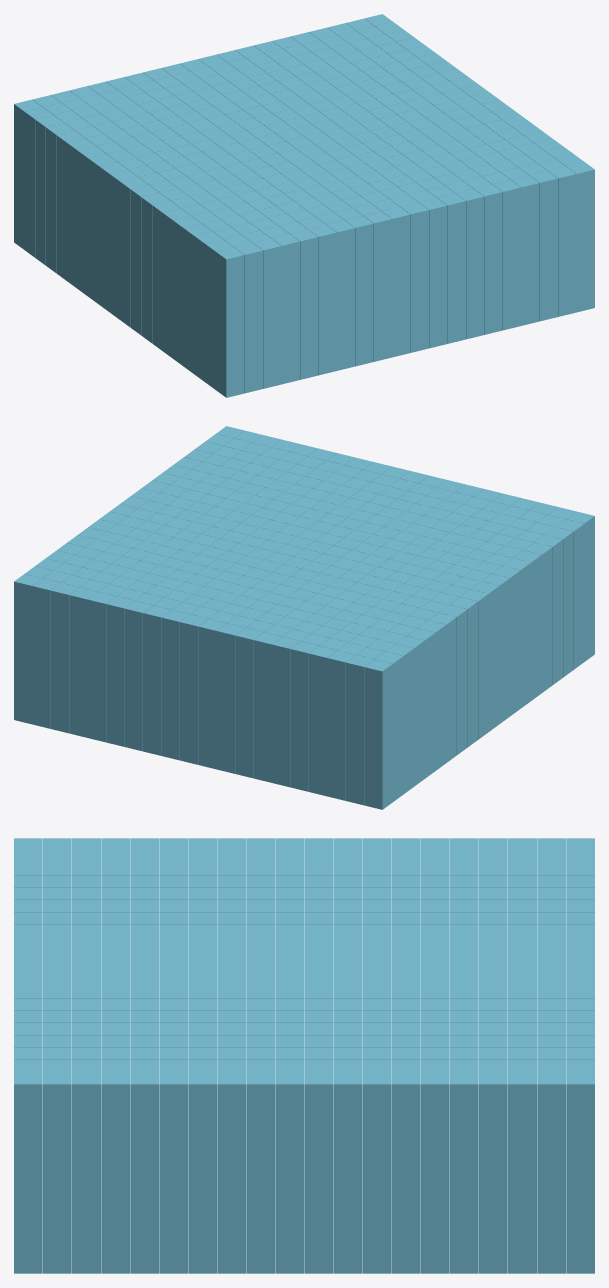
The model's file is BiggerWaterNew.fbx.
The picture shows the model from 3 angles, top to bottom: view 1: azimuth 30°, elevation 25°; view 2: azimuth 150°, elevation 25°; view 3: azimuth 270°, elevation 25°; orthographic projection. The views are drawn at different scales.
Visible parts, largest first — view 1: polySurface93, polySurface253, polySurface393, polySurface453, polySurface193, polySurface173, polySurface133, polySurface413, polySurface373, polySurface333, polySurface273, polySurface233 (+27 smaller); view 2: polySurface112, polySurface272, polySurface412, polySurface472, polySurface212, polySurface192, polySurface152, polySurface432, polySurface392, polySurface352, polySurface292, polySurface252 (+27 smaller); view 3: polySurface484, polySurface483, polySurface482, polySurface481, polySurface480, polySurface479, polySurface492, polySurface491, polySurface490, polySurface489, polySurface488, polySurface487 (+8 smaller).
Boxes of the visible parts, left/top/right/bottom form: polySurface93: left=216, top=247, right=244, bottom=397; polySurface253: left=363, top=211, right=392, bottom=361; polySurface393: left=493, top=180, right=521, bottom=330; polySurface453: left=548, top=166, right=576, bottom=316; polySurface193: left=308, top=225, right=336, bottom=375; polySurface173: left=290, top=229, right=318, bottom=379; polySurface133: left=253, top=238, right=281, bottom=388; polySurface413: left=511, top=175, right=539, bottom=325; polySurface373: left=474, top=184, right=502, bottom=334; polySurface333: left=437, top=193, right=465, bottom=343; polySurface273: left=382, top=207, right=410, bottom=357; polySurface233: left=345, top=216, right=373, bottom=366; polySurface112: left=364, top=659, right=392, bottom=809; polySurface272: left=216, top=623, right=245, bottom=773; polySurface412: left=87, top=592, right=115, bottom=742; polySurface472: left=32, top=578, right=60, bottom=728; polySurface212: left=272, top=637, right=300, bottom=787; polySurface192: left=290, top=641, right=318, bottom=791; polySurface152: left=327, top=650, right=355, bottom=800; polySurface432: left=69, top=587, right=97, bottom=737; polySurface392: left=106, top=596, right=134, bottom=746; polySurface352: left=143, top=605, right=171, bottom=755; polySurface292: left=198, top=619, right=226, bottom=769; polySurface252: left=235, top=628, right=263, bottom=778; polySurface484: left=362, top=1072, right=391, bottom=1273; polySurface483: left=333, top=1072, right=362, bottom=1273; polySurface482: left=304, top=1072, right=333, bottom=1273; polySurface481: left=275, top=1072, right=304, bottom=1273; polySurface480: left=246, top=1072, right=275, bottom=1273; polySurface479: left=217, top=1072, right=246, bottom=1273; polySurface492: left=566, top=1072, right=594, bottom=1273; polySurface491: left=43, top=1072, right=71, bottom=1273; polySurface490: left=537, top=1072, right=565, bottom=1273; polySurface489: left=508, top=1072, right=536, bottom=1273; polySurface488: left=479, top=1072, right=507, bottom=1273; polySurface487: left=450, top=1072, right=478, bottom=1273.
Bounding box in the file's own units: 1646 × 591 × 1643.
